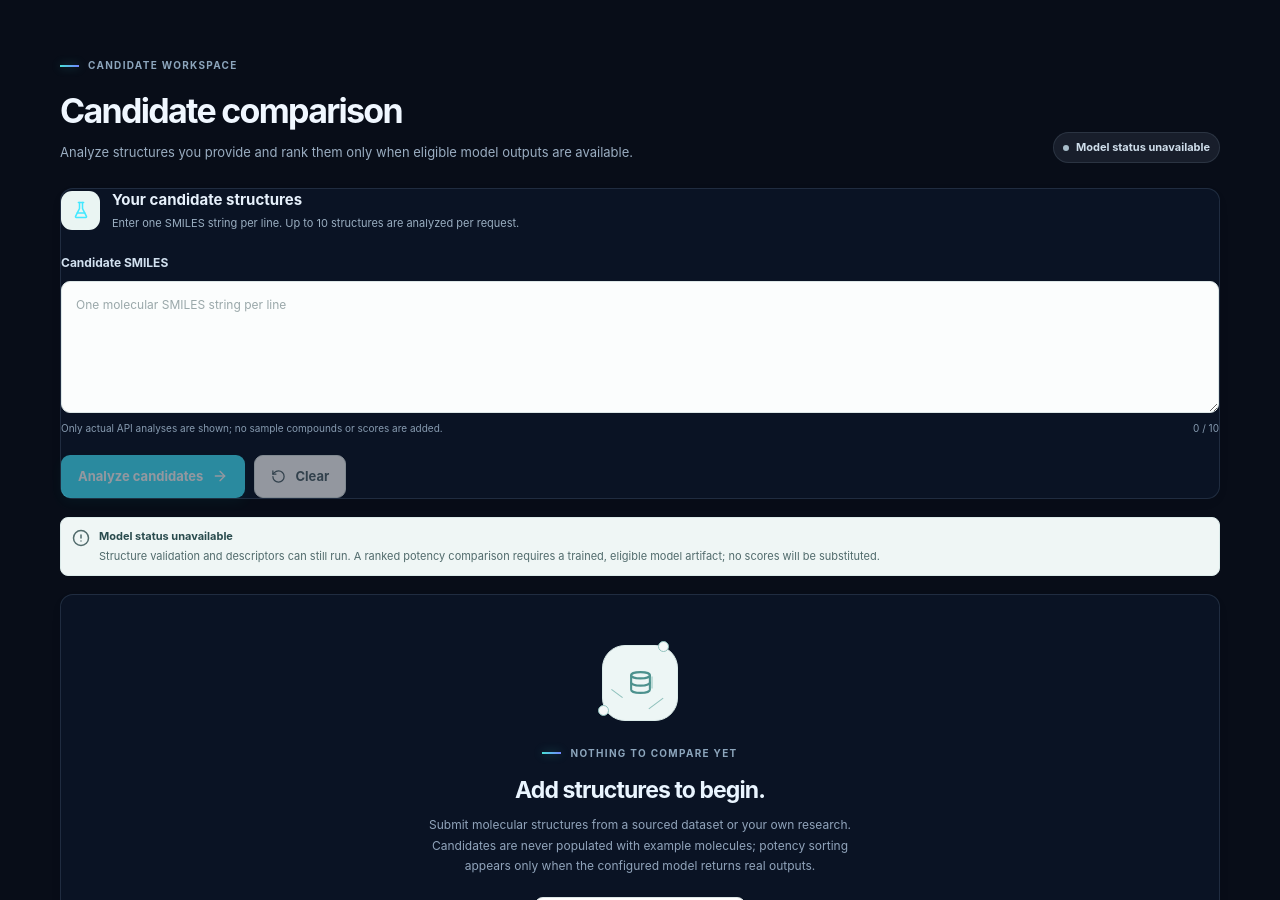
Test case: RankingPage › allows structure comparison but does not show potency scores without a model
Step 1. Type "OCC" into the text box labelled "Candidate SMILES" → (640, 347), box [61,281,1219,413]
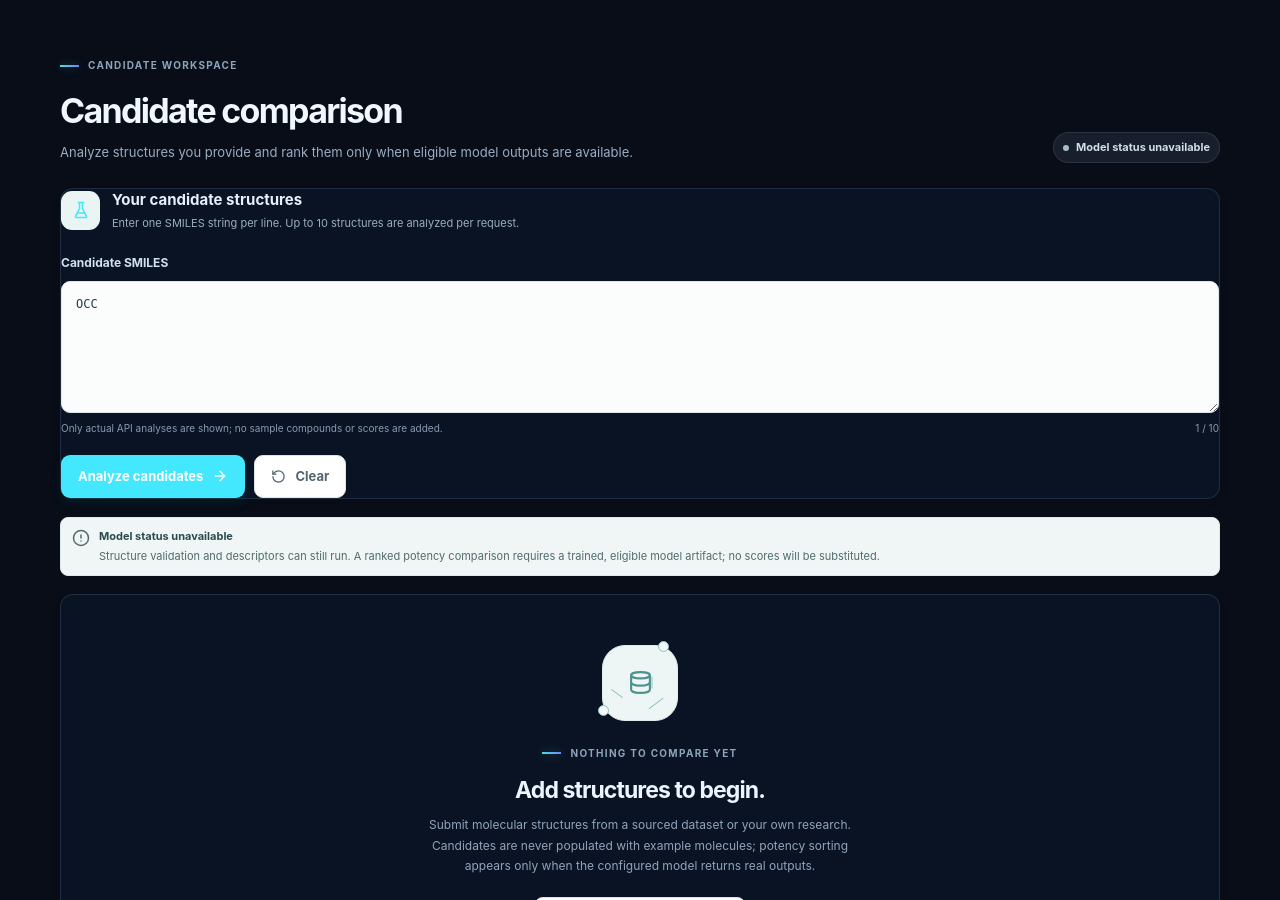
Step 2. Click the button "Analyze candidates" → (153, 476), box [61,455,245,498]
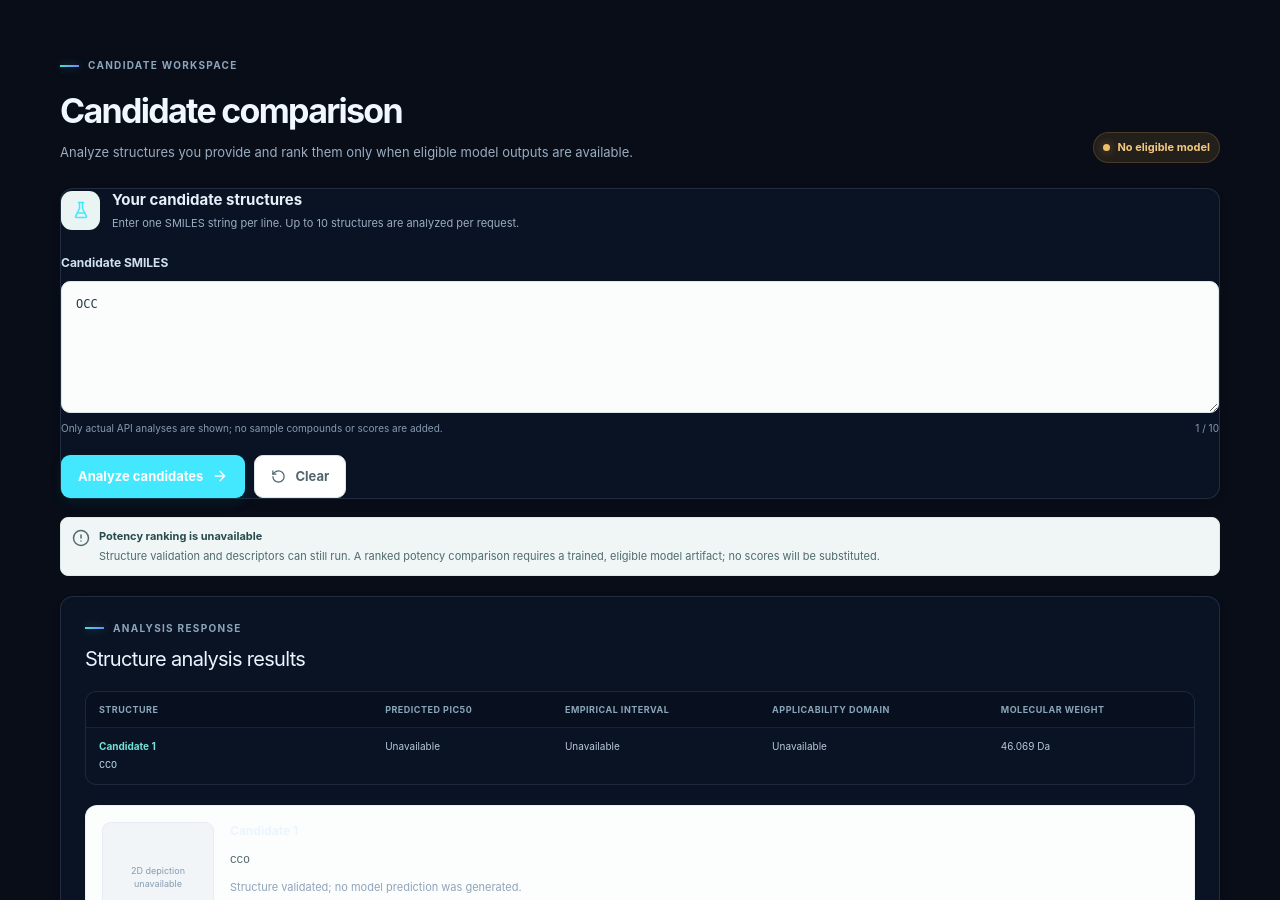
Check: the text "Structure validated; no model prediction was generated." is shown, box [230,880,522,894]
Check: the text "Potency ranking is unavailable" is shown, box [99,529,262,543]
